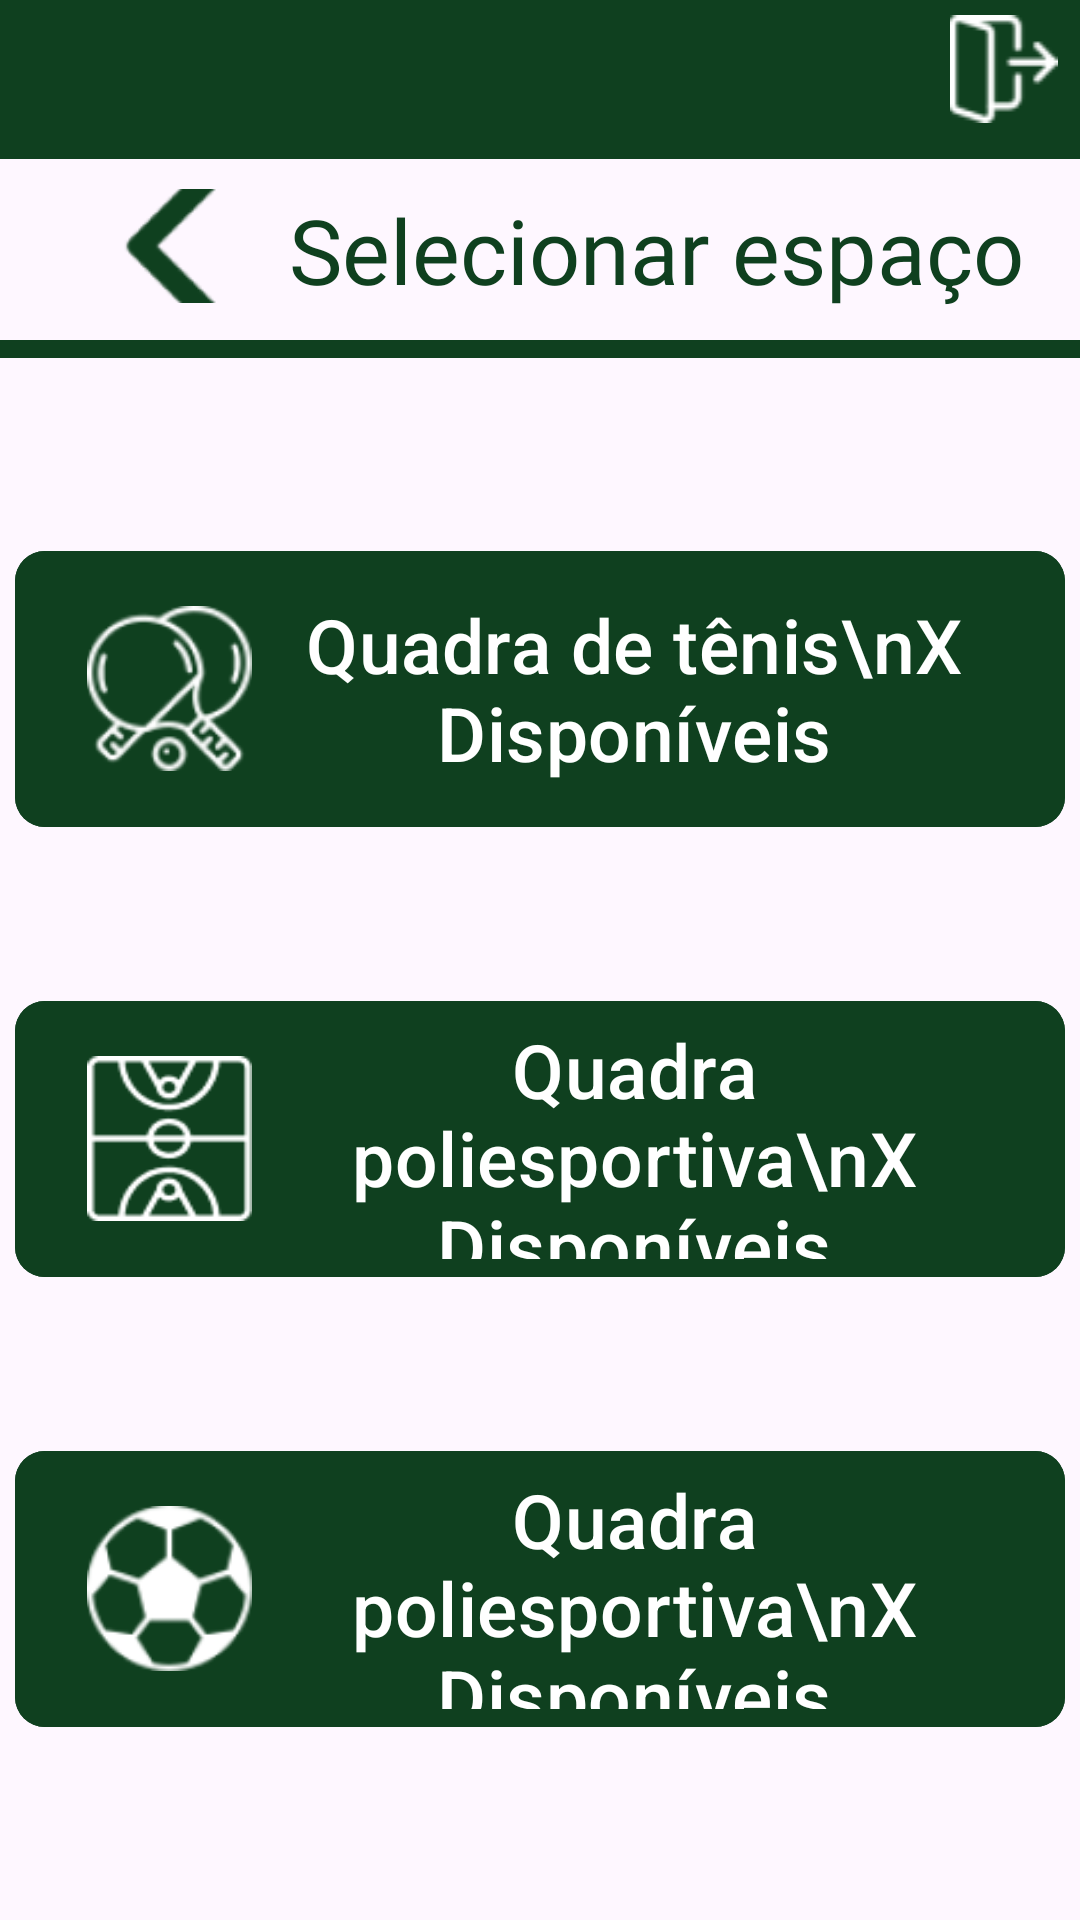

Icon bounding boxes for this 1080×1920 phone screenshot, format (x1, y1, x2, y2):
back page arrow: (126, 189, 216, 303)
